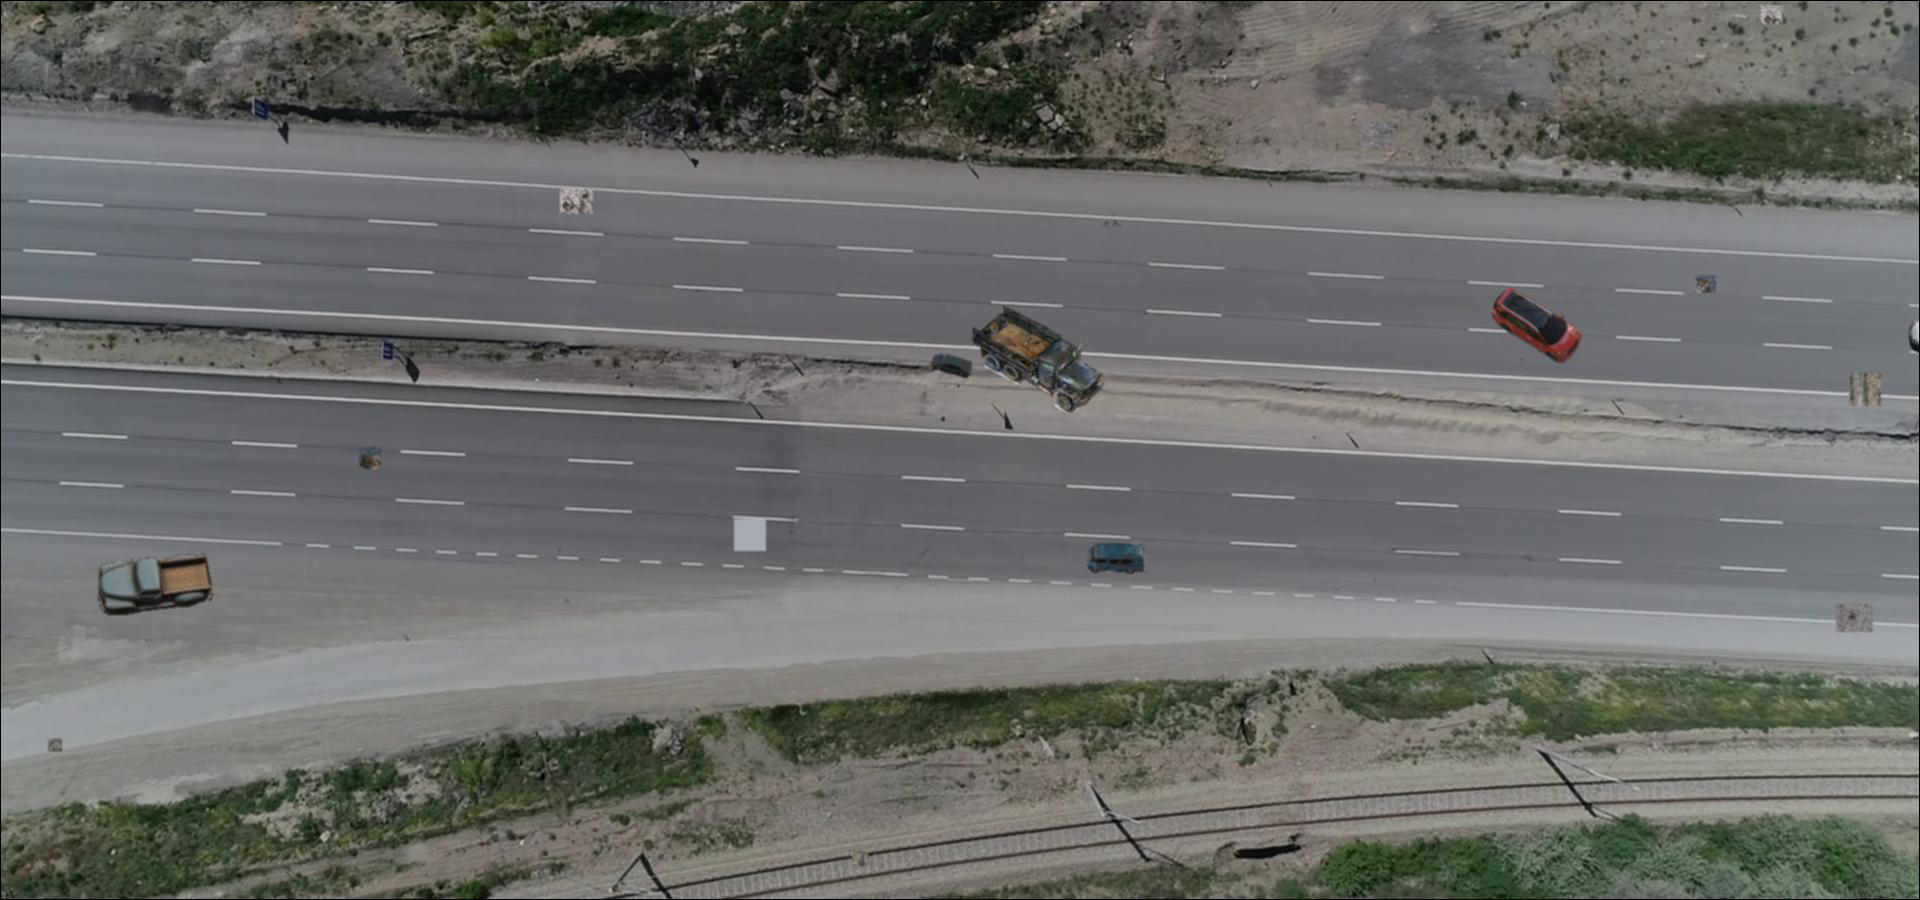arac: (970, 302, 1104, 414), (98, 552, 216, 618), (1491, 283, 1581, 362), (1087, 542, 1145, 576), (931, 353, 973, 378), (111, 560, 136, 583)
